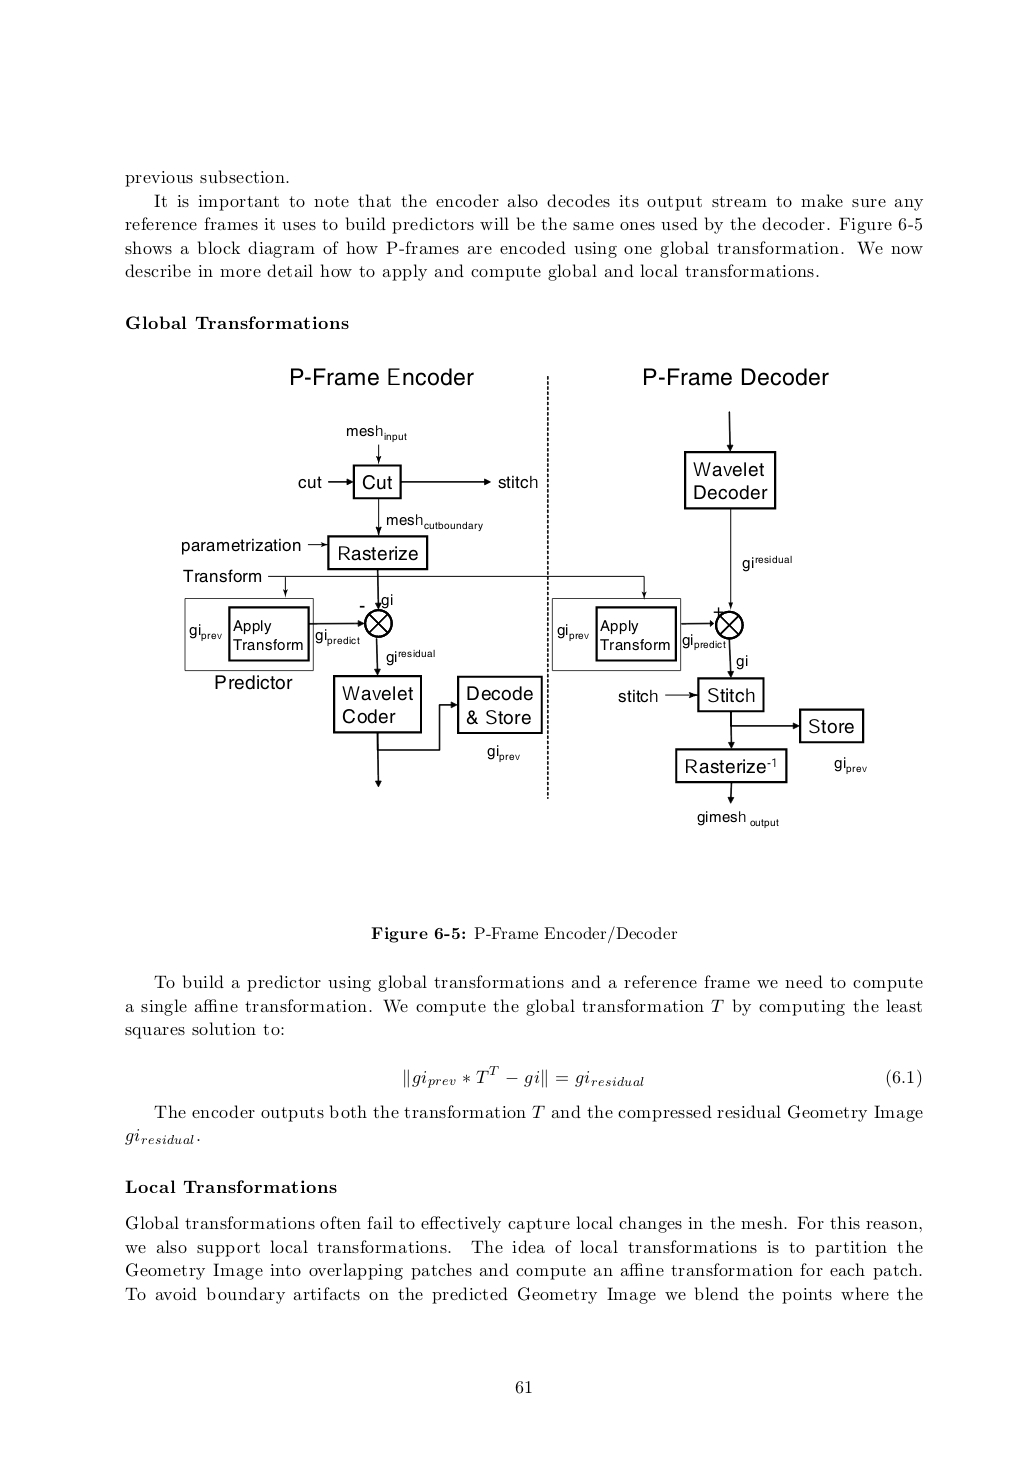figure: (182, 368, 866, 827)
formula: (404, 1065, 921, 1088)
